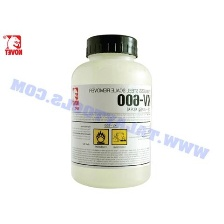cleaning_solution: (68, 33, 154, 191)
